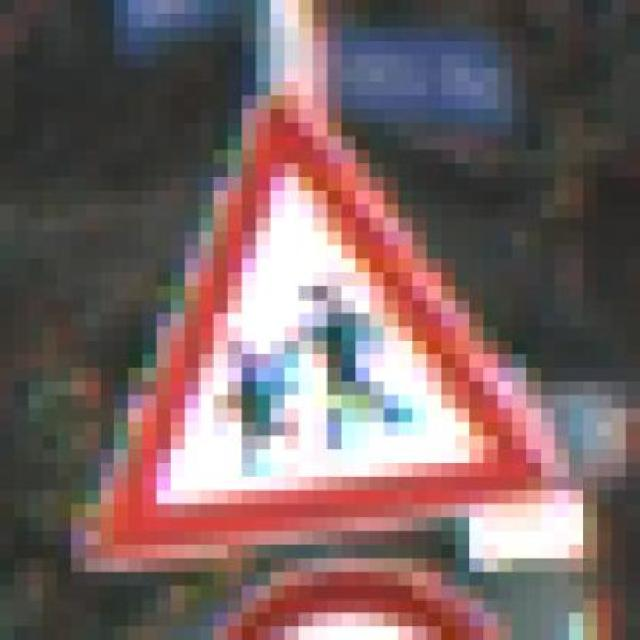Beware of children: (56, 81, 598, 558)
